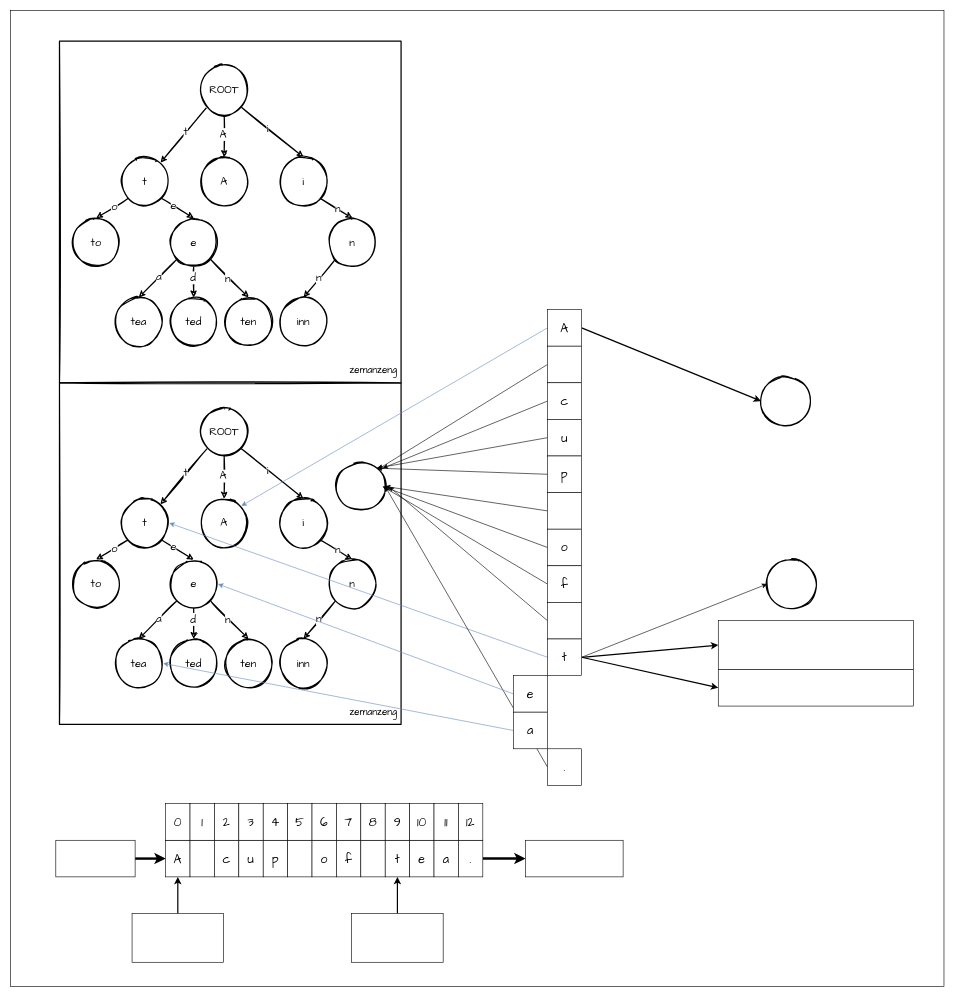
Some shapes in this 955 by 997 pixel diagram are drawn without their labels. The box of each missing label's shape, as (x1, y1, x2, y2) in pixels:
A cup of tea.: (55, 840, 135, 877)
Index=0 Length=1 Words=“A”: (131, 913, 224, 962)
Index=9 Length=3 Words=“tea”: (351, 913, 443, 962)
not exist: (336, 461, 386, 511)
匹配项"A" "tea": (525, 840, 623, 877)
单个字符匹配: (760, 376, 810, 426)
字符串匹配: (766, 559, 816, 609)
找到匹配串后，从匹配串最后一个字符的index下一位开始匹配，a的下一位index=12: (718, 669, 913, 706)
根节点的子节点有"t",从当前子节点往下走，直到走到叶子结点（匹配成功）或者中途字符不匹配（匹配失败）: (718, 620, 913, 669)
